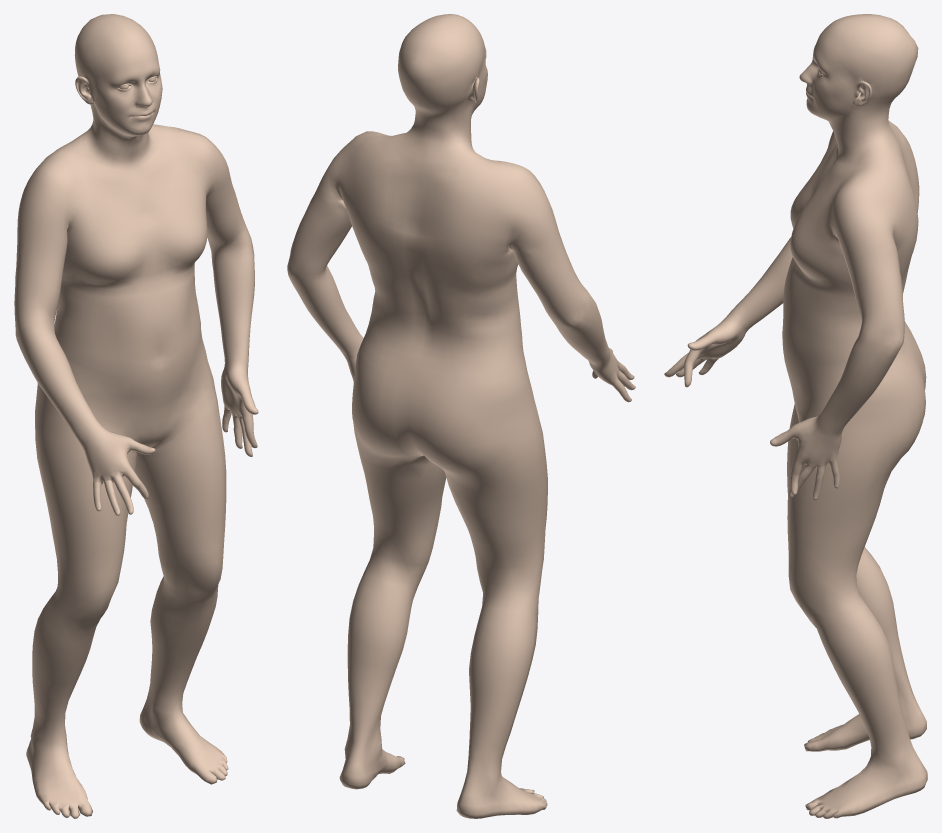
File: WORD-01471.glb
3 views of the same model, side by side, from view 1: azimuth 30°, elevation 25°; view 2: azimuth 150°, elevation 25°; view 3: azimuth 270°, elevation 25° (orthographic). The views are drawn at different scales.
Size of the model in its own units: 0.6066 by 1.72 by 0.5385.
